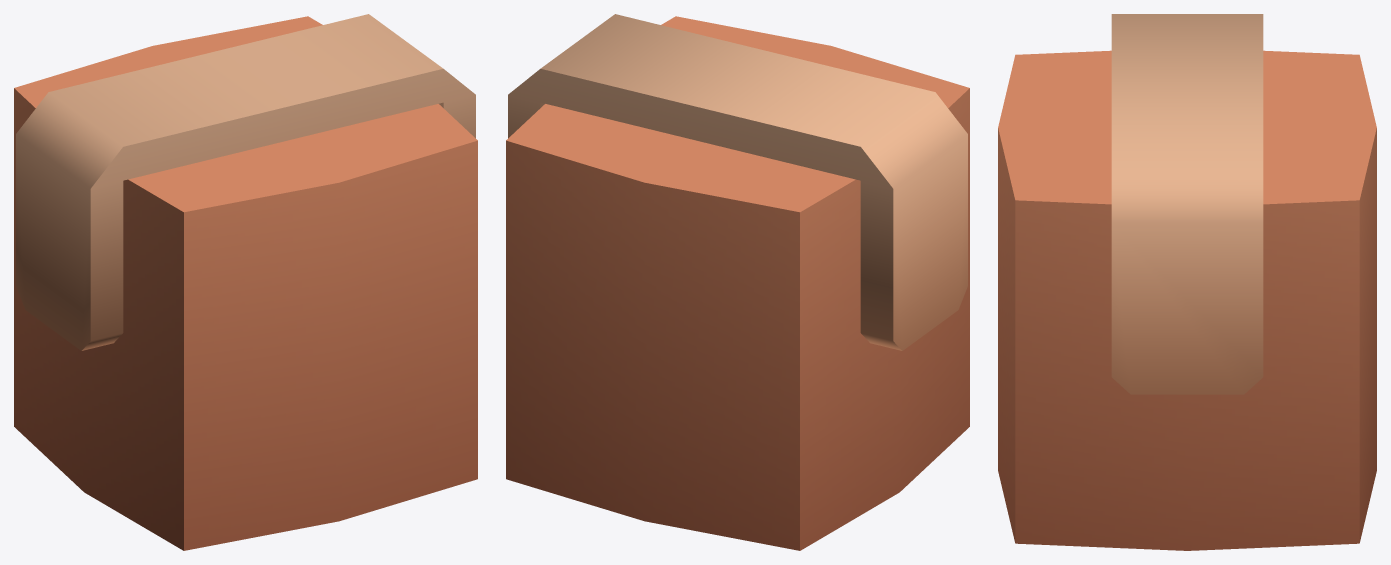
The picture shows the model from 3 angles, left to right: view 1: azimuth 30°, elevation 25°; view 2: azimuth 150°, elevation 25°; view 3: azimuth 270°, elevation 25°; orthographic projection.
Visible parts, largest first — view 1: box-small; view 2: box-small; view 3: box-small.
Boxes of the visible parts, box(x1,y1,x2,y2) form: box-small: box(14, 14, 477, 550); box-small: box(506, 14, 969, 550); box-small: box(998, 14, 1376, 550).
Size of the model in its own units: 0.595 by 0.55 by 0.5.
1 material, 1 textured.
